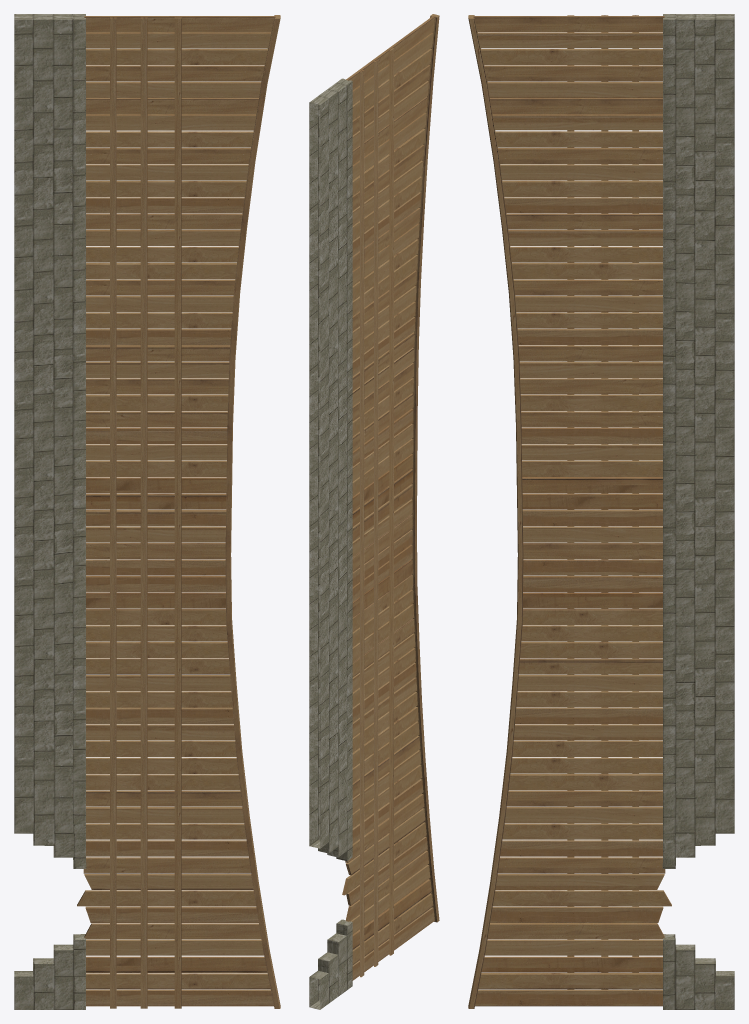
File: nt_concrete_fence_320_tall_dog_LOD0.obj
3 renders of one model, left to right at view 1: azimuth 90°, elevation 25°; view 2: azimuth 150°, elevation 25°; view 3: azimuth 270°, elevation 25°, orthographic. The views are drawn at different scales.
Visible parts, largest first — view 1: nt_wood_fence, nt_2020_concrete_pattern_02; view 2: nt_wood_fence, nt_2020_concrete_pattern_02; view 3: nt_wood_fence, nt_2020_concrete_pattern_02.
Part boxes in pixels (<box>): nt_wood_fence: <box>77,15,280,1008</box>; nt_2020_concrete_pattern_02: <box>14,14,86,1009</box>; nt_wood_fence: <box>342,14,439,980</box>; nt_2020_concrete_pattern_02: <box>309,78,352,1009</box>; nt_wood_fence: <box>468,15,671,1008</box>; nt_2020_concrete_pattern_02: <box>662,14,734,1009</box>.
Size of the model in its own units: 10.16 by 813 by 198.
2 materials, 2 textured.
